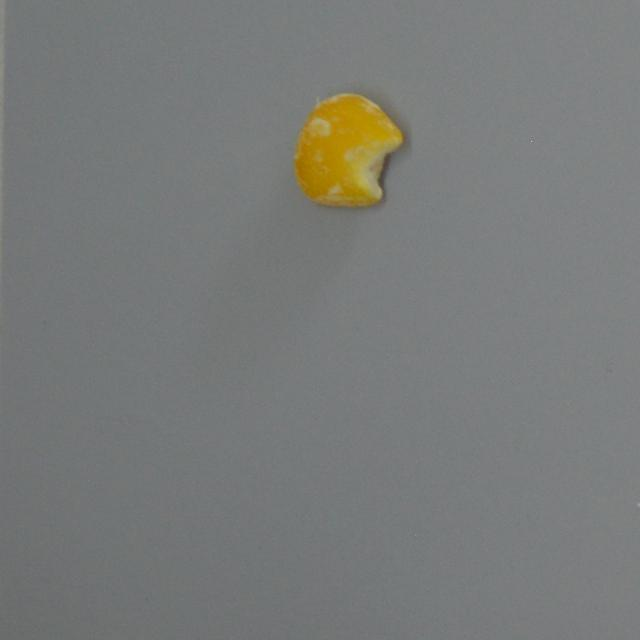pelicula: (284, 88, 409, 214)
